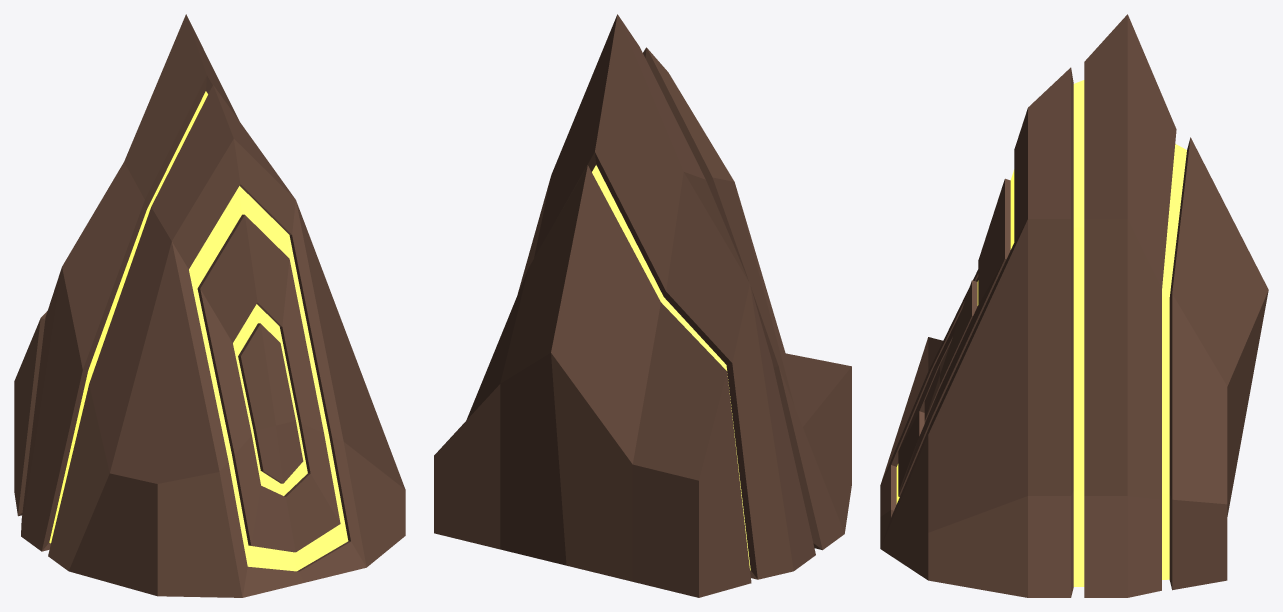
File: MESH_Rock_popo.fbx
The picture shows the model from 3 angles, left to right: view 1: azimuth 30°, elevation 25°; view 2: azimuth 150°, elevation 25°; view 3: azimuth 270°, elevation 25°; orthographic projection. The views are drawn at different scales.
Parts seen in each view (by area): view 1: Rocher_popo; view 2: Rocher_popo; view 3: Rocher_popo.
Boxes of the visible parts, box(x1,y1,x2,y2) form: Rocher_popo: box(14, 14, 405, 597); Rocher_popo: box(434, 14, 851, 597); Rocher_popo: box(880, 14, 1268, 597).
Size of the model in its own units: 261 by 371 by 260.
